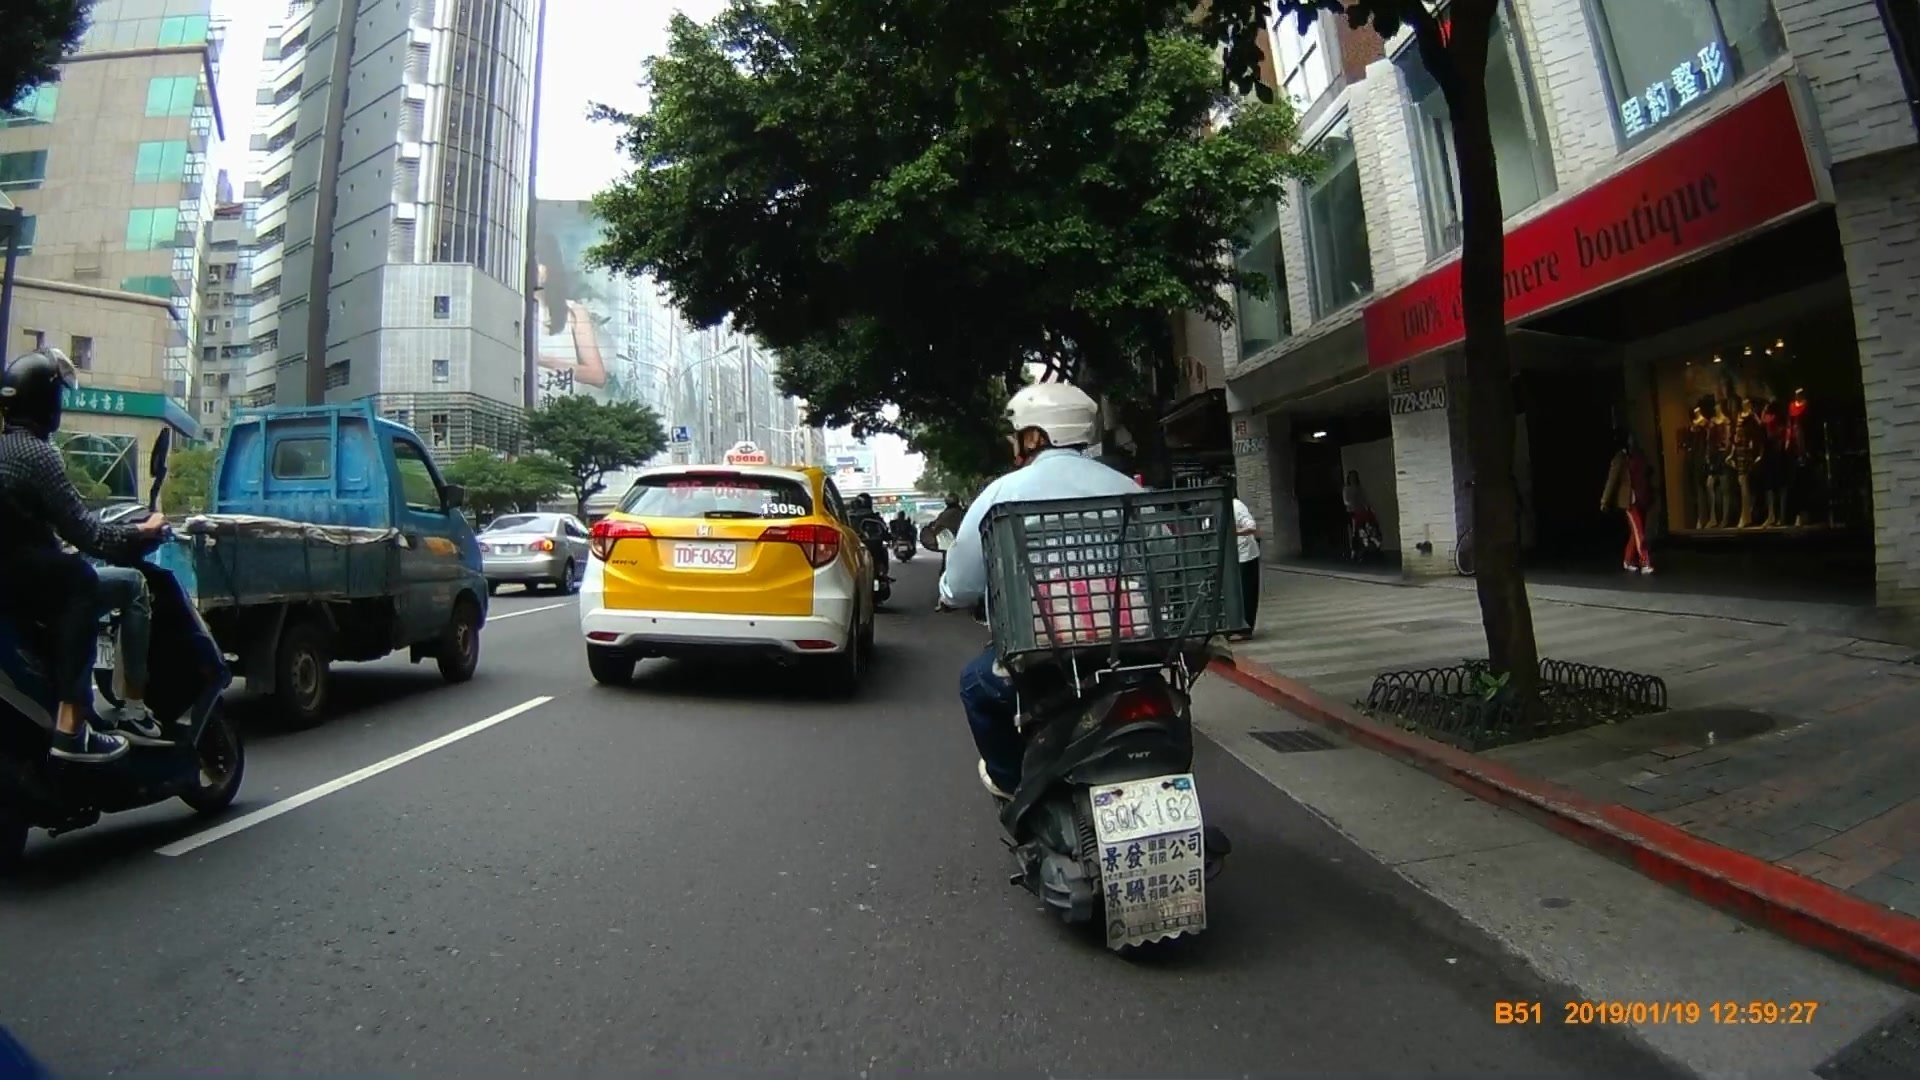License_plate: (1087, 782, 1203, 835), (671, 540, 739, 570)
